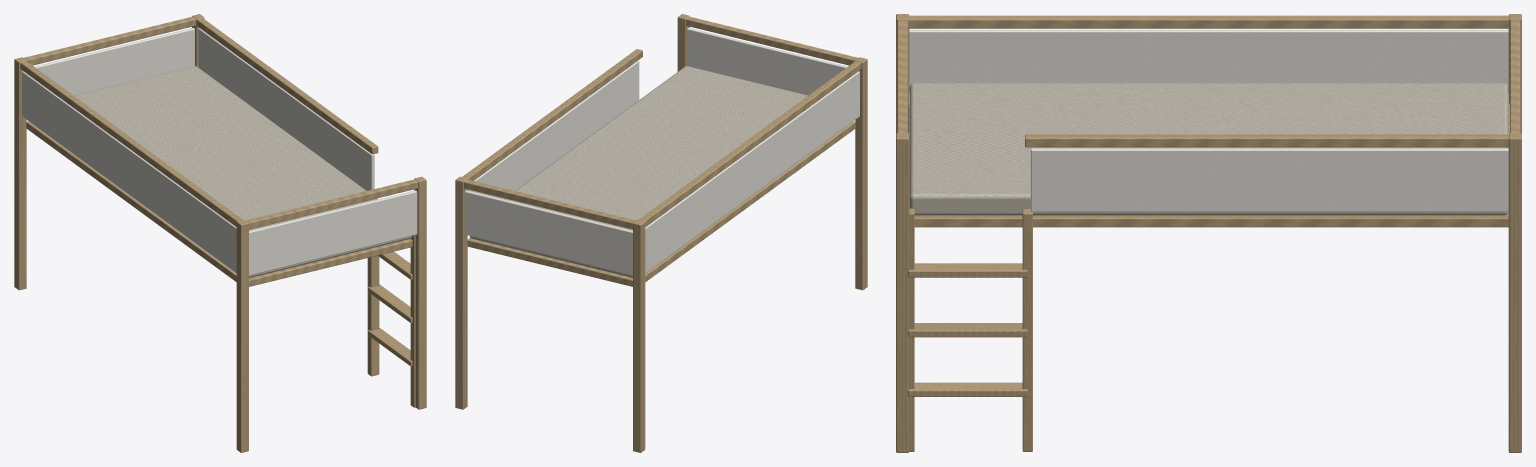
Rendered from kura.glb.
The picture shows the model from 3 angles, left to right: view 1: azimuth 30°, elevation 25°; view 2: azimuth 150°, elevation 25°; view 3: azimuth 270°, elevation 25°; orthographic projection. The views are drawn at different scales.
Visible parts, largest first — view 1: KURA Reversible bed, loft position; view 2: KURA Reversible bed, loft position; view 3: KURA Reversible bed, loft position.
Part boxes in pixels (x1=…): KURA Reversible bed, loft position: x1=14, y1=14, x2=426, y2=452; KURA Reversible bed, loft position: x1=455, y1=14, x2=867, y2=452; KURA Reversible bed, loft position: x1=896, y1=14, x2=1521, y2=452.
Size of the model in its own units: 0.99 by 1.16 by 2.09.
Materials: 3 (3 with a texture image).
